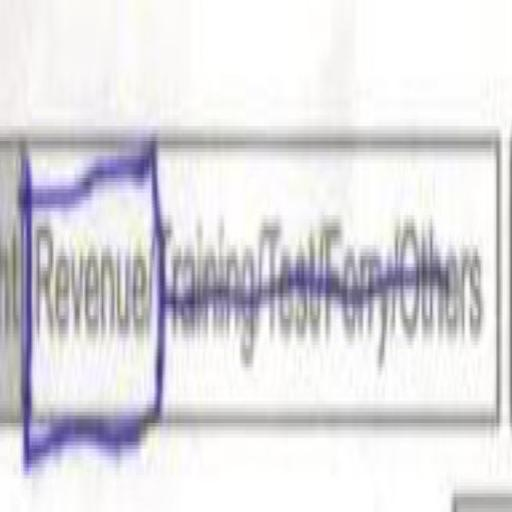check: (18, 74, 158, 512)
